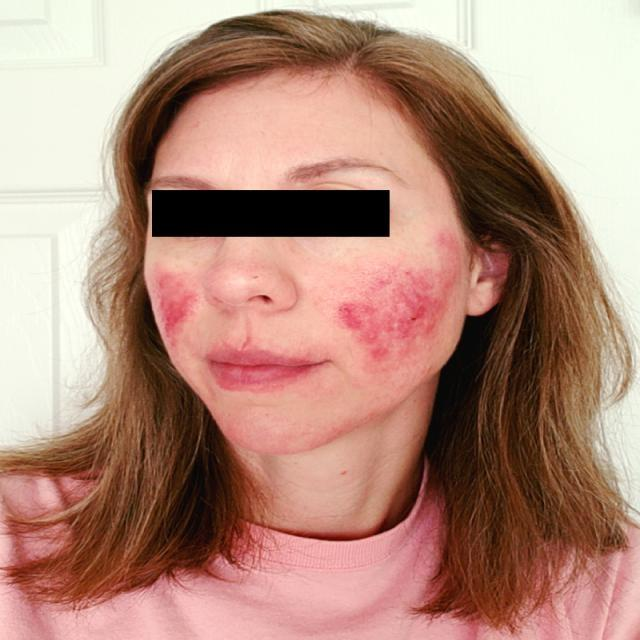Rosacea: (339, 234, 466, 376), (153, 259, 206, 354)
